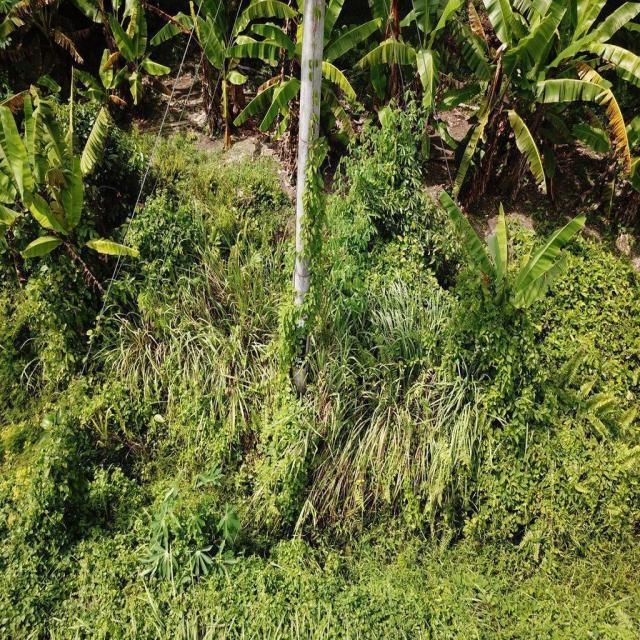light_pole: (288, 22, 330, 396)
